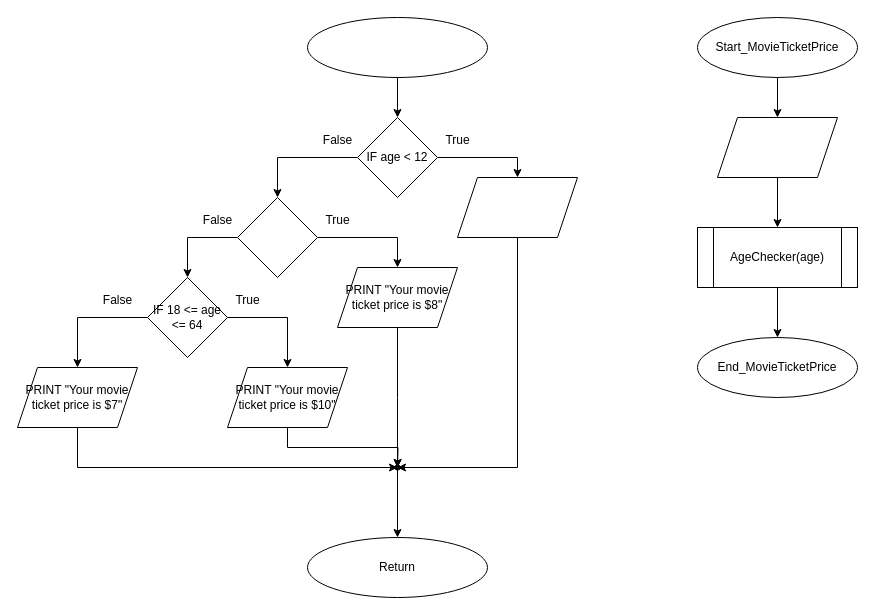
Some shapes in this 875 by 615 pixel diagram are drawn without their labels. Each missing label, with the box of its shape:
IF 12 <= age <= 17: (236, 196, 318, 278)
INPUT age: (716, 116, 838, 178)
PRINT "Your movie ticket price is $5": (456, 176, 578, 238)
Start_AgeChecker(age): (306, 16, 488, 78)
